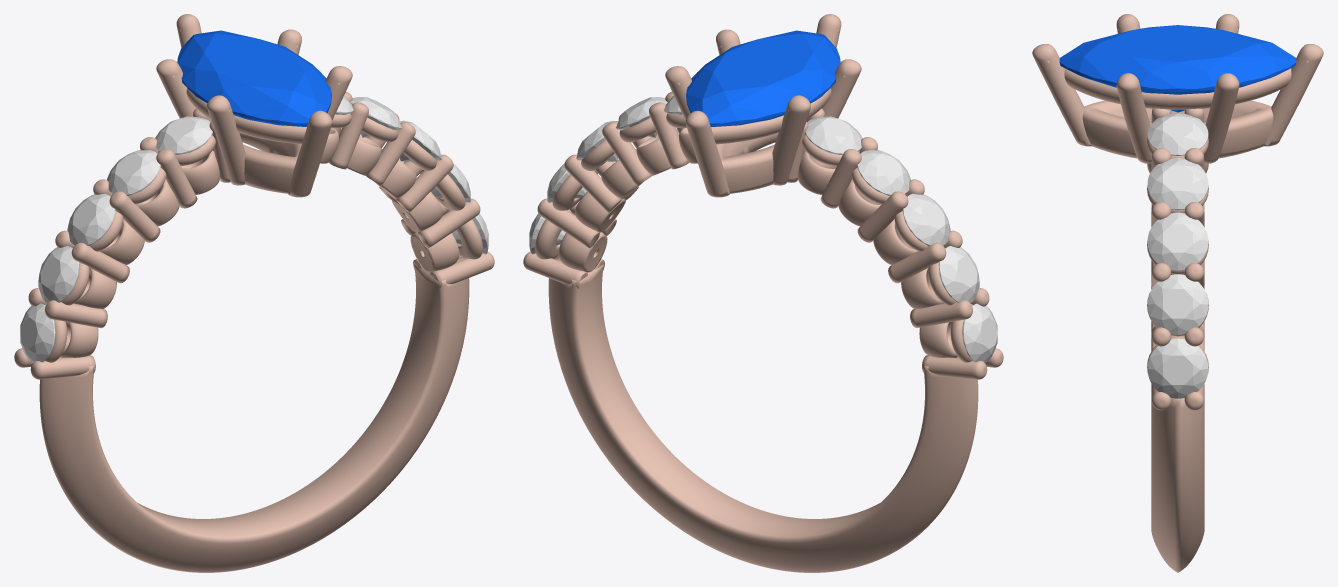
Rendered from bluesapphire-marquise-rosegold-6prong-knifeedge-11stone.glb.
3 views of the same model, side by side, from view 1: azimuth 30°, elevation 25°; view 2: azimuth 150°, elevation 25°; view 3: azimuth 270°, elevation 25° (orthographic).
Parts seen in each view (by area): view 1: metal.001, stone.001, dia.014, dia.013, dia.015, dia.001, dia.016, dia.020; view 2: metal.001, stone.001, dia.014, dia.013, dia.015, dia.001, dia.016, dia.020; view 3: metal.001, stone.001, dia.018, dia.017, dia.019, dia.020, dia.021.
Boxes of the visible parts, x1=… form: metal.001: x1=14, y1=14, x2=494, y2=572; stone.001: x1=177, y1=30, x2=331, y2=126; dia.014: x1=67, y1=193, x2=115, y2=245; dia.013: x1=38, y1=246, x2=79, y2=302; dia.015: x1=107, y1=150, x2=160, y2=195; dia.001: x1=20, y1=303, x2=55, y2=362; dia.016: x1=155, y1=116, x2=212, y2=154; dia.020: x1=350, y1=97, x2=401, y2=137; metal.001: x1=523, y1=14, x2=1003, y2=572; stone.001: x1=686, y1=30, x2=840, y2=126; dia.014: x1=902, y1=193, x2=950, y2=245; dia.013: x1=938, y1=246, x2=979, y2=302; dia.015: x1=857, y1=150, x2=910, y2=195; dia.001: x1=962, y1=303, x2=997, y2=362; dia.016: x1=805, y1=116, x2=862, y2=155; dia.020: x1=616, y1=97, x2=667, y2=137; metal.001: x1=1032, y1=14, x2=1323, y2=572; stone.001: x1=1059, y1=25, x2=1296, y2=112; dia.018: x1=1147, y1=274, x2=1208, y2=334; dia.017: x1=1147, y1=338, x2=1208, y2=398; dia.019: x1=1147, y1=212, x2=1208, y2=270; dia.020: x1=1147, y1=158, x2=1208, y2=209; dia.021: x1=1147, y1=113, x2=1208, y2=155.
Bounding box in the file's own units: 21.88 × 22.93 × 11.96.
